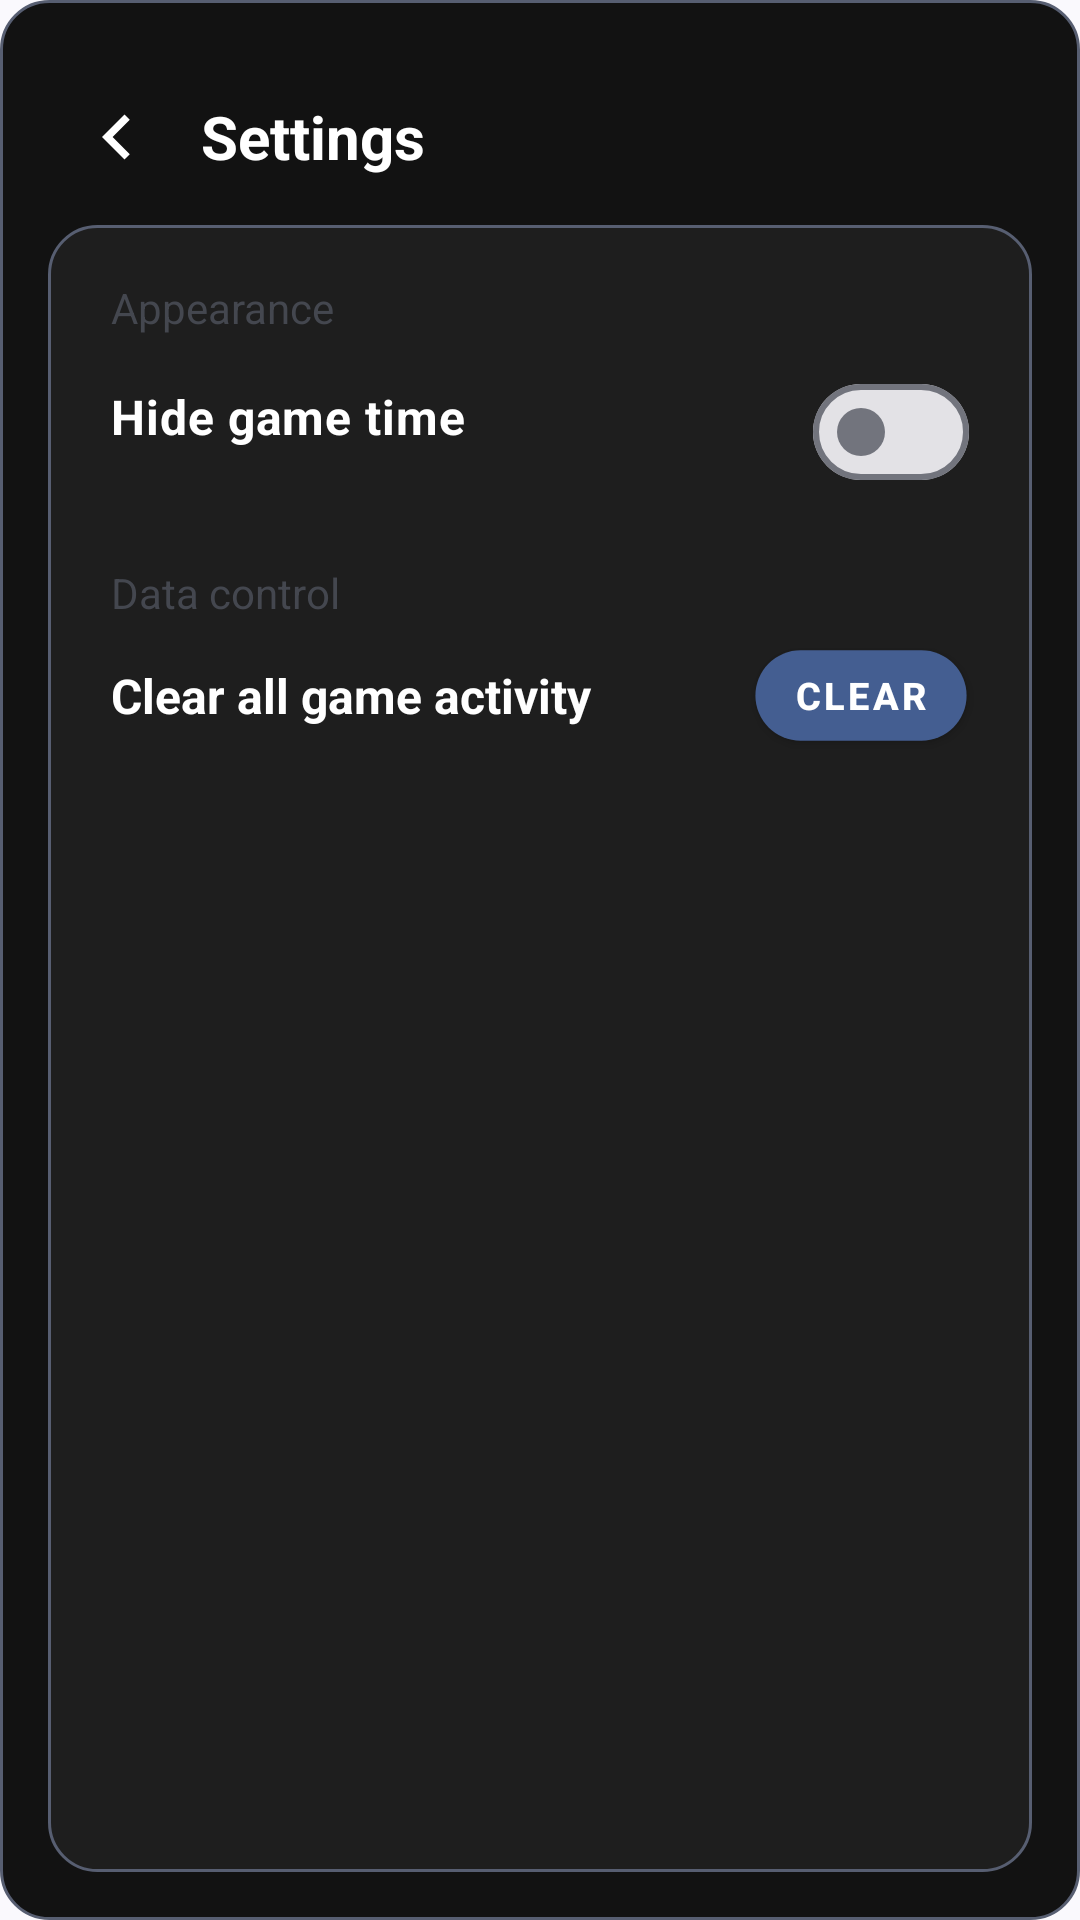

Icons on this 1080 × 1920 Android screen, each with its box as (x1, y1, x2, y2):
back: (102, 114, 130, 160)
